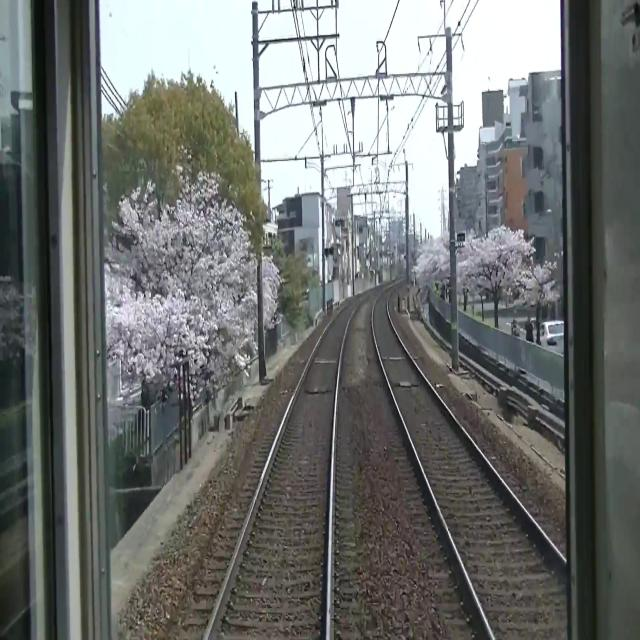rail-track: (208, 302, 358, 639), (373, 286, 516, 639)
